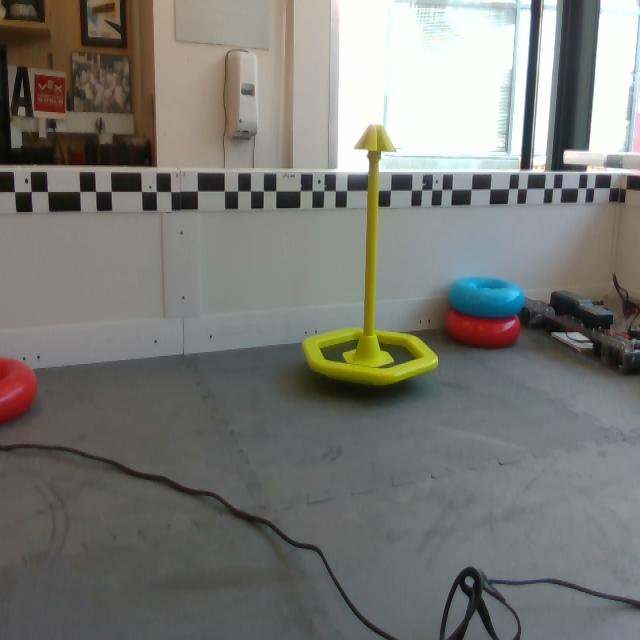Blue-Ring: (449, 278, 530, 318)
Mobile-Goal: (303, 124, 446, 391)
Red-Ring: (445, 308, 525, 348), (0, 355, 40, 423)
Yellow-Stake-Head: (353, 124, 398, 153)
